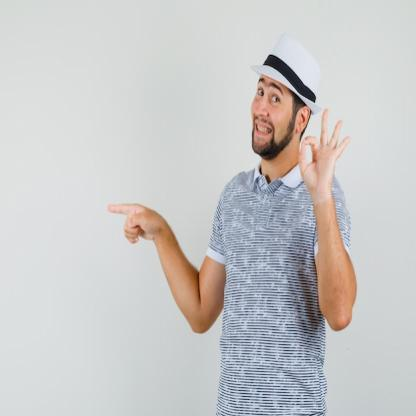ok: (297, 104, 353, 199)
